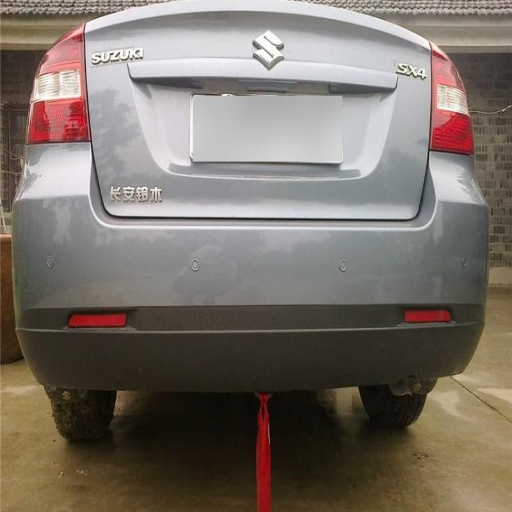tailgate: (84, 3, 433, 216)
trunk: (212, 201, 312, 217)
